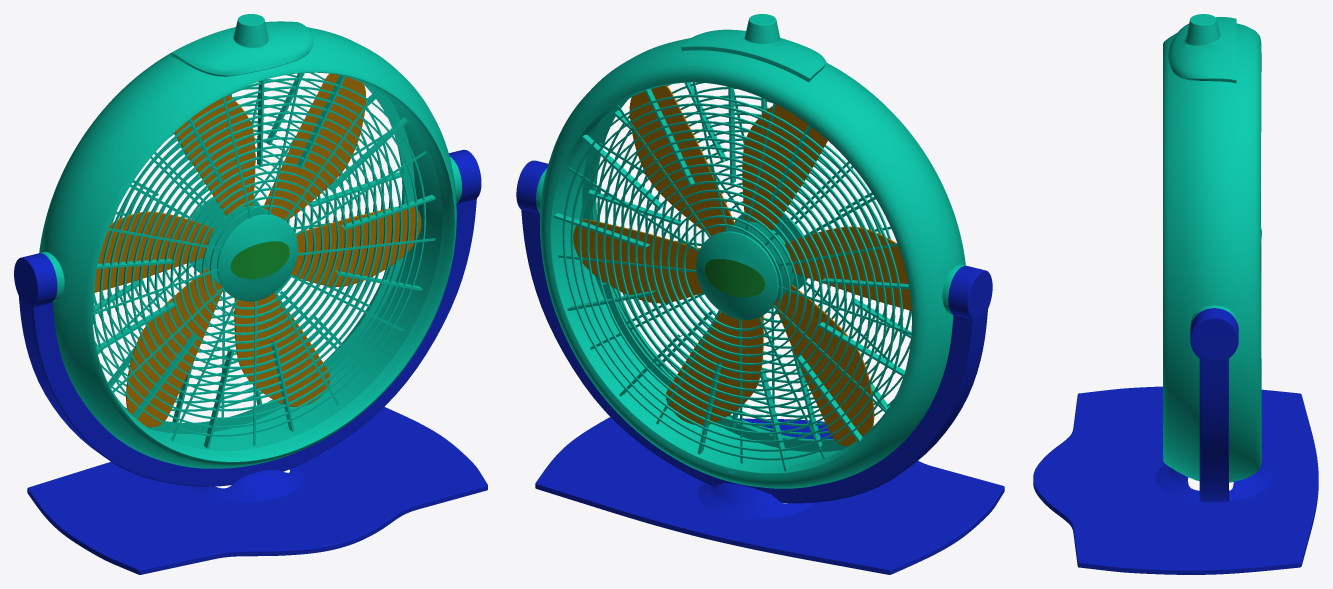
The model's file is cobra.glb.
The picture shows the model from 3 angles, left to right: view 1: azimuth 30°, elevation 25°; view 2: azimuth 150°, elevation 25°; view 3: azimuth 270°, elevation 25°; orthographic projection. The views are drawn at different scales.
Parts seen in each view (by area): view 1: Object045, Object043, Object051, Object046, Object044, Object050, Object048, Object047, Object049; view 2: Object045, Object043, Object051, Object046, Object044, Object048, Object050, Object047, Object049; view 3: Object051, Object045, Object044, Object050.
Boxes of the visible parts, left/top/right/bottom form: Object045: left=39, top=27, right=462, bottom=468; Object043: left=92, top=72, right=435, bottom=448; Object051: left=27, top=407, right=487, bottom=574; Object046: left=94, top=73, right=421, bottom=427; Object044: left=14, top=149, right=481, bottom=486; Object050: left=171, top=14, right=313, bottom=76; Object048: left=190, top=196, right=297, bottom=301; Object047: left=230, top=241, right=289, bottom=278; Object049: left=205, top=205, right=273, bottom=284; Object045: left=536, top=38, right=966, bottom=488; Object043: left=554, top=82, right=911, bottom=471; Object051: left=535, top=417, right=1004, bottom=574; Object046: left=573, top=85, right=911, bottom=446; Object044: left=516, top=160, right=992, bottom=503; Object048: left=696, top=214, right=807, bottom=320; Object050: left=681, top=14, right=826, bottom=82; Object047: left=705, top=258, right=764, bottom=297; Object049: left=723, top=220, right=794, bottom=300; Object051: left=1033, top=386, right=1318, bottom=574; Object045: left=1163, top=23, right=1261, bottom=482; Object044: left=1190, top=308, right=1238, bottom=502; Object050: left=1168, top=14, right=1236, bottom=83.
Bounding box in the file's own units: 0.6141 × 0.6172 × 0.3444.
